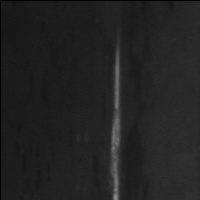scratches: (105, 41, 127, 200)
